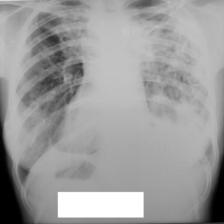tuberculosis: (5, 0, 219, 200)
